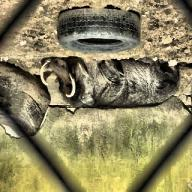boar: (39, 57, 179, 111)
